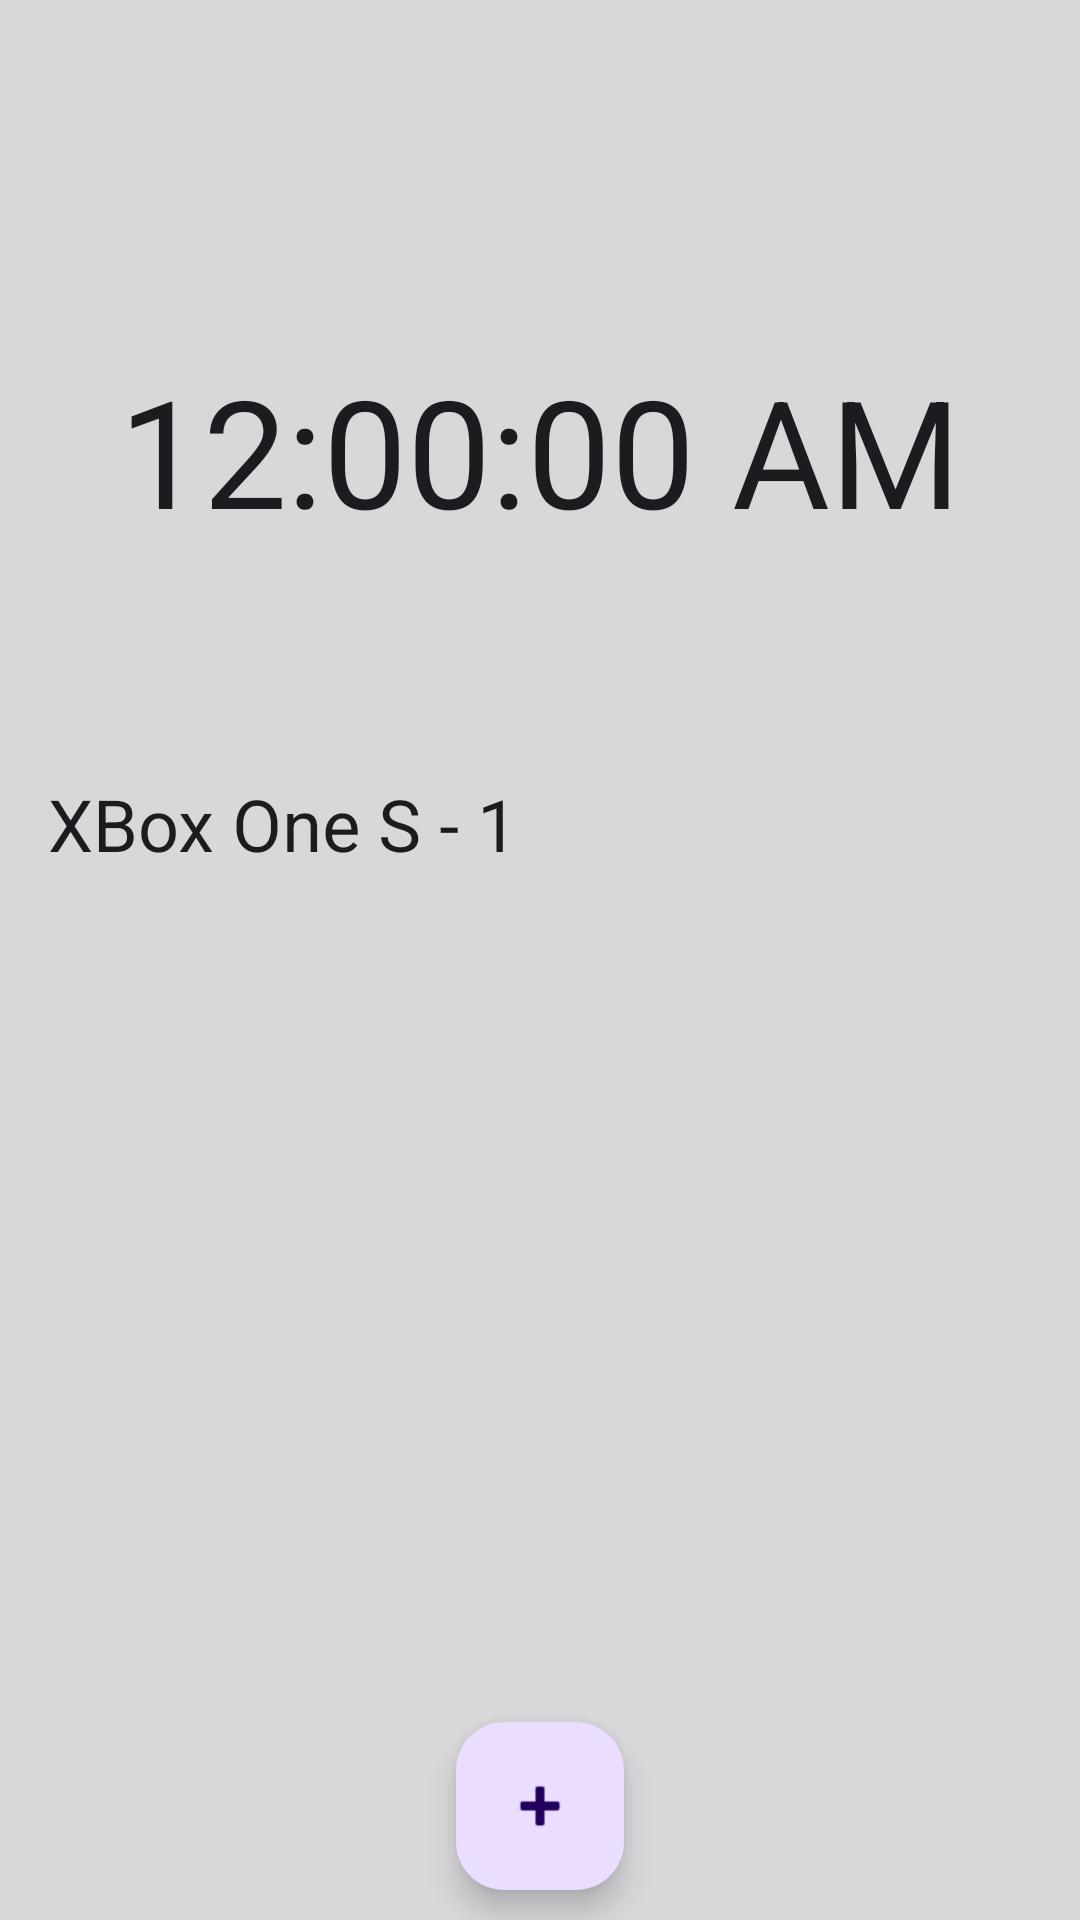

Icons on this 1080w x 1920h Android screen, each with the point to tap as [x,y]:
add time: [540,1806]
